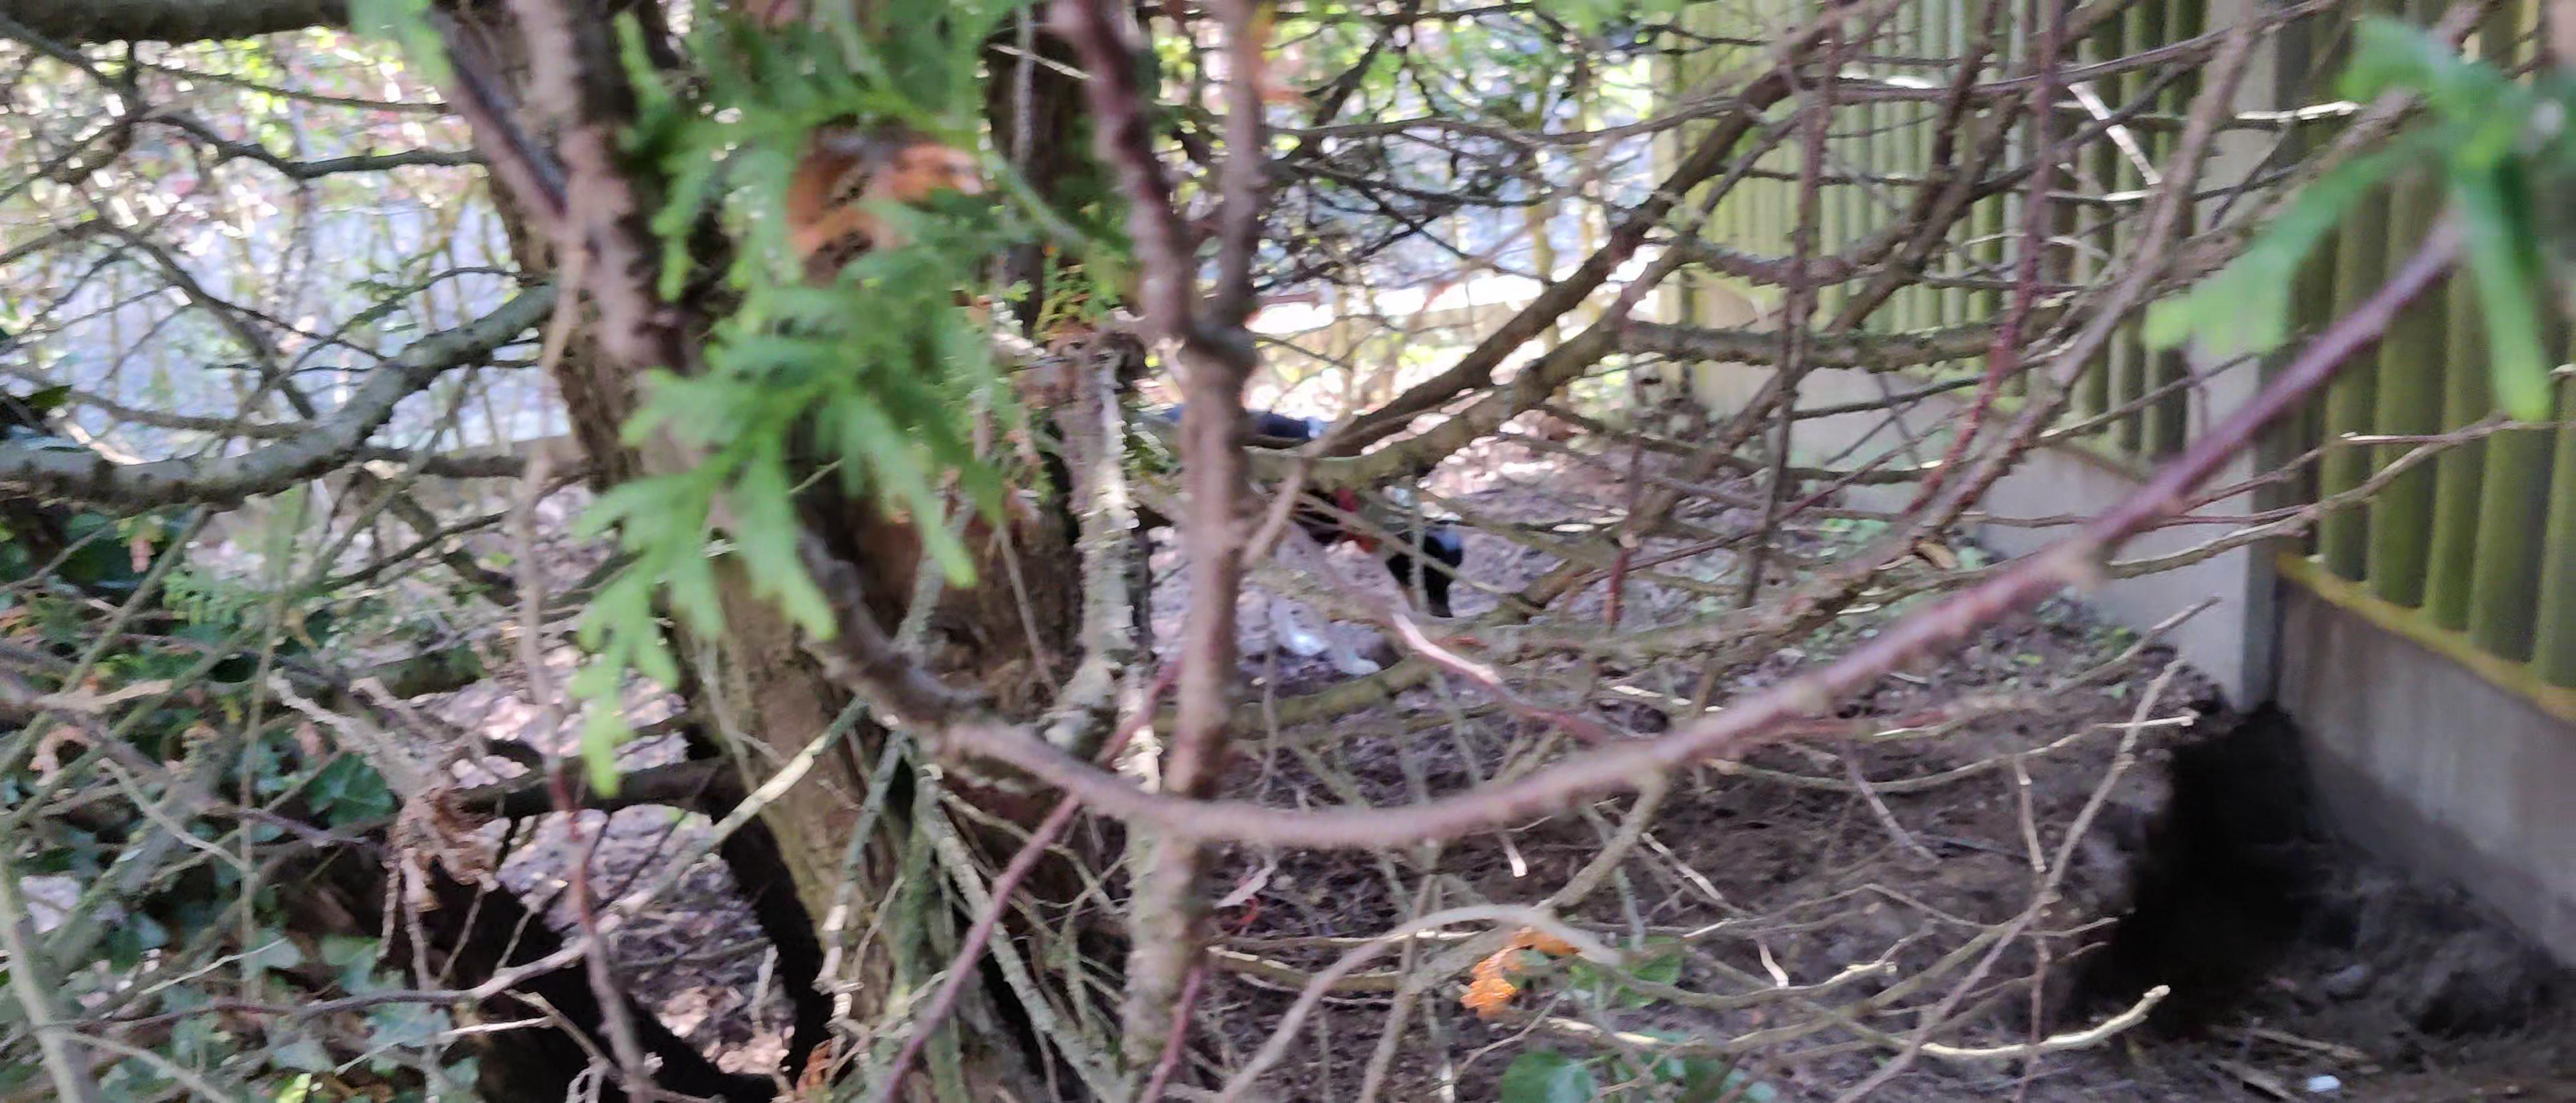Dog: (1099, 385, 1475, 679)
